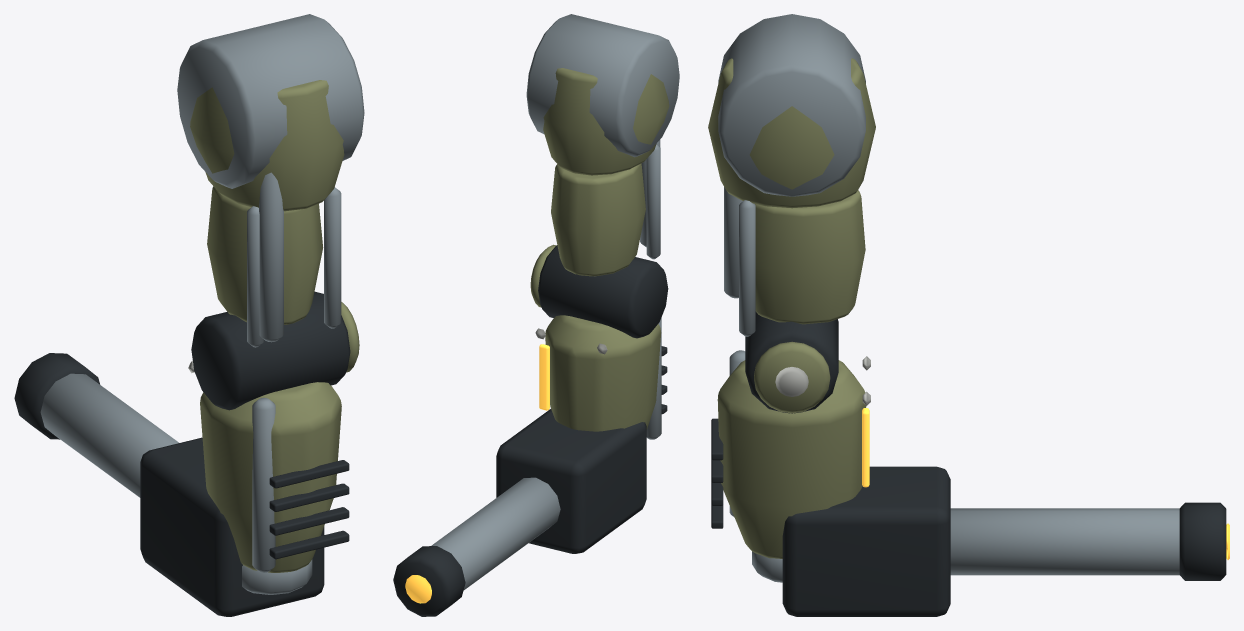
The model's file is arms_08.glb.
The picture shows the model from 3 angles, left to right: view 1: azimuth 30°, elevation 25°; view 2: azimuth 150°, elevation 25°; view 3: azimuth 270°, elevation 25°; orthographic projection. The views are drawn at different scales.
Visible parts, largest first — view 1: Forearm.007_Geometry, UpperArm.007_Geometry, Shoulder bearing.007; view 2: Forearm.007_Geometry, UpperArm.007_Geometry, Shoulder bearing.007; view 3: Forearm.007_Geometry, UpperArm.007_Geometry, Shoulder bearing.007.
Part boxes in pixels (x1,y1,x2,y2): Forearm.007_Geometry: (14, 302, 359, 616); UpperArm.007_Geometry: (190, 80, 350, 410); Shoulder bearing.007: (177, 14, 364, 188); Forearm.007_Geometry: (393, 244, 667, 616); UpperArm.007_Geometry: (538, 68, 669, 338); Shoulder bearing.007: (526, 14, 679, 157); Forearm.007_Geometry: (711, 341, 1229, 616); UpperArm.007_Geometry: (708, 58, 875, 413); Shoulder bearing.007: (718, 14, 865, 196).
Size of the model in its own units: 0.1757 by 0.659 by 0.559.
